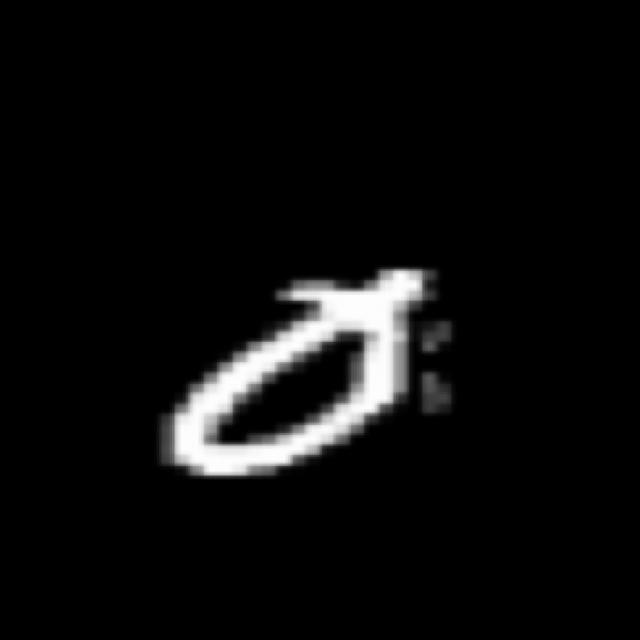zero -0-: (134, 249, 450, 489)
